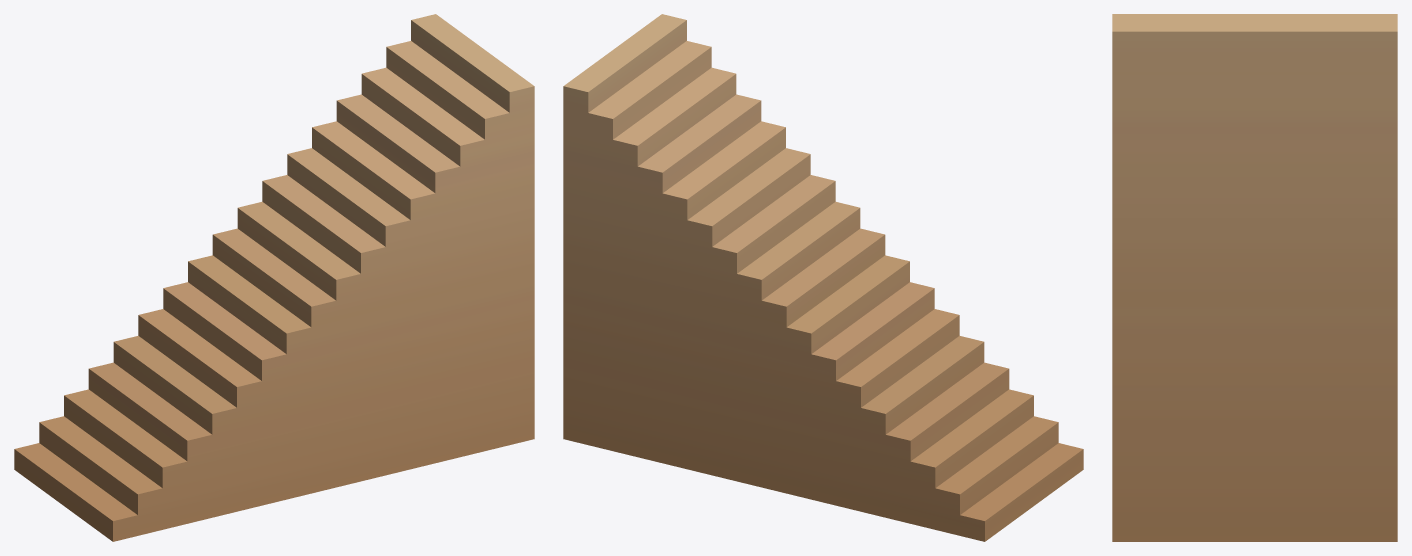
The model's file is Stairs_C_1_5.obj.
3 renders of one model, left to right at view 1: azimuth 30°, elevation 25°; view 2: azimuth 150°, elevation 25°; view 3: azimuth 270°, elevation 25°, orthographic. The views are drawn at different scales.
Visible parts, largest first — view 1: Stairs_C_1_5; view 2: Stairs_C_1_5; view 3: Stairs_C_1_5.
Part boxes in pixels (x1=…): Stairs_C_1_5: x1=14, y1=14, x2=534, y2=541; Stairs_C_1_5: x1=563, y1=14, x2=1083, y2=541; Stairs_C_1_5: x1=1112, y1=14, x2=1397, y2=541.
Bounding box in the file's own units: 3.4 × 2.72 × 1.38.
